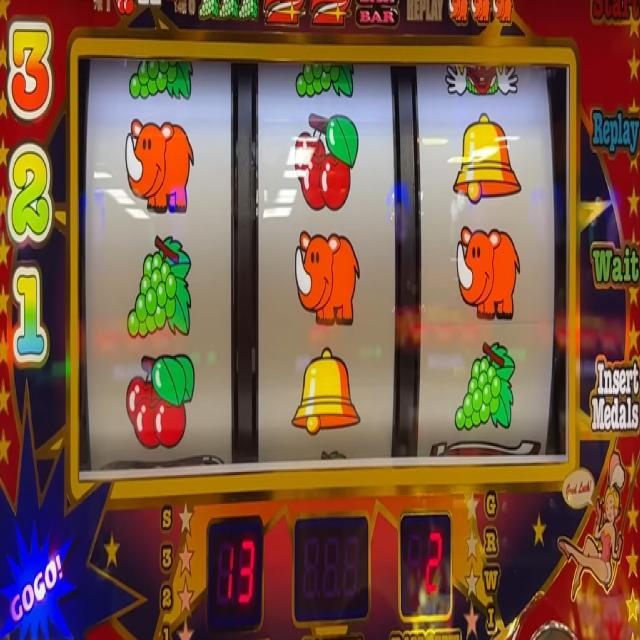bar: (353, 0, 401, 28)
bell: (291, 345, 361, 443), (453, 111, 522, 206)
cherry: (126, 352, 196, 449), (294, 112, 359, 212), (113, 0, 137, 15)
clown: (445, 60, 518, 98)
display: (78, 56, 569, 465)
elephant: (290, 227, 361, 329), (124, 115, 195, 212), (455, 225, 521, 324), (470, 0, 492, 26), (492, 0, 514, 25), (448, 0, 469, 25)
grape: (126, 232, 191, 340), (455, 338, 516, 438), (128, 54, 194, 100), (295, 59, 356, 103), (219, 0, 263, 28), (218, 0, 238, 21), (239, 0, 258, 21), (199, 0, 217, 21)
z: (309, 0, 352, 31), (262, 0, 306, 29)
